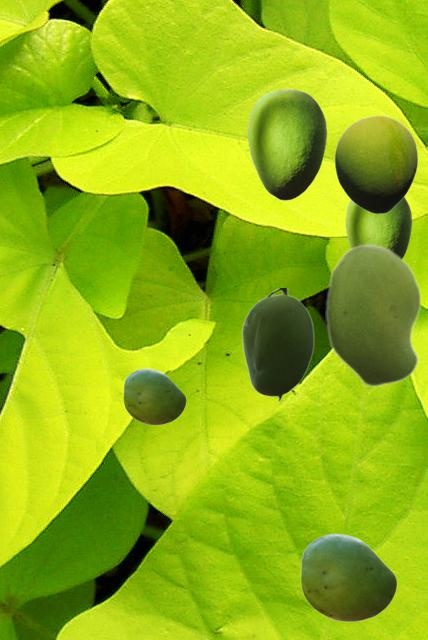green_mango: (325, 243, 421, 387), (247, 88, 326, 199), (300, 533, 396, 621), (241, 288, 313, 401), (334, 115, 417, 213), (345, 197, 411, 257), (123, 368, 185, 424)
